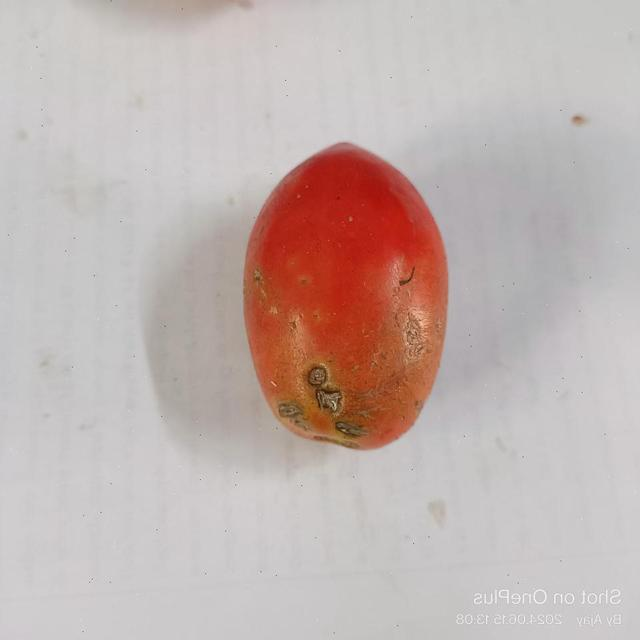Bacterial Spot Fruit: (14, 13, 275, 273)
